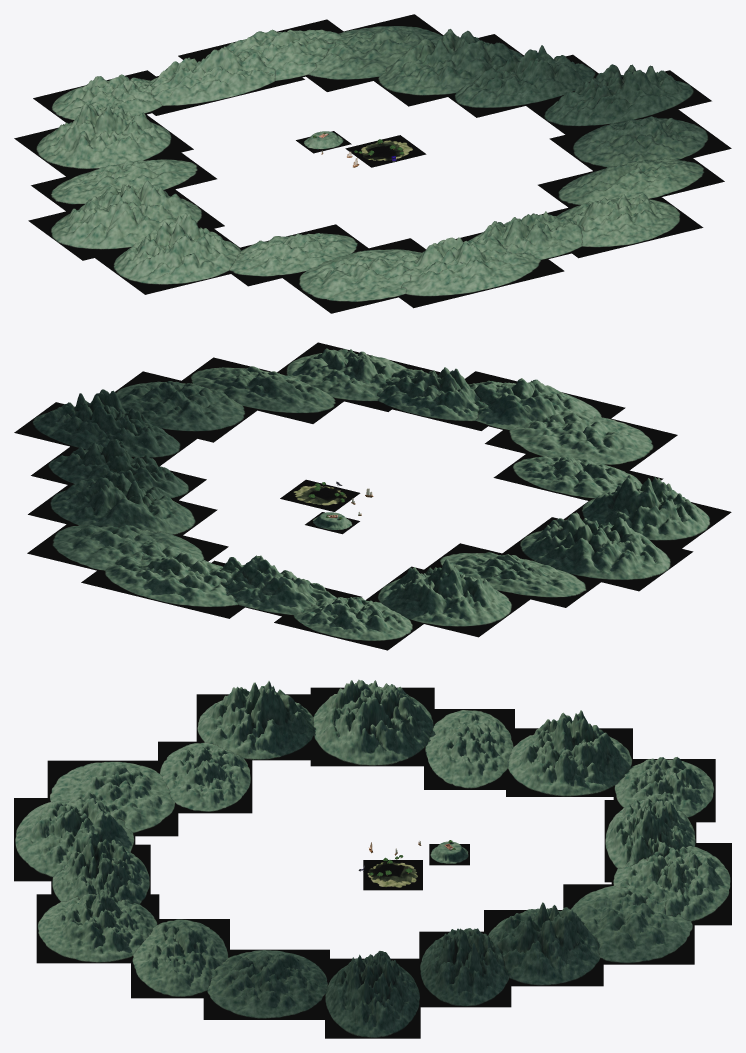
Rendered from environment-particles.glb.
The picture shows the model from 3 angles, top to bottom: view 1: azimuth 30°, elevation 25°; view 2: azimuth 150°, elevation 25°; view 3: azimuth 270°, elevation 25°; orthographic projection. The views are drawn at different scales.
Visible parts, largest first — view 1: Surrounding mountains, Temple shore, Far temple island; view 2: Surrounding mountains, Temple shore, Far temple island; view 3: Surrounding mountains, Temple shore, Far temple island.
Part boxes in pixels (bbox=[...]): Surrounding mountains: bbox=[14, 14, 731, 313]; Temple shore: bbox=[345, 135, 426, 167]; Far temple island: bbox=[296, 131, 351, 153]; Surrounding mountains: bbox=[14, 342, 731, 650]; Temple shore: bbox=[280, 479, 360, 511]; Far temple island: bbox=[305, 512, 359, 534]; Surrounding mountains: bbox=[14, 679, 731, 1038]; Temple shore: bbox=[363, 860, 422, 890]; Far temple island: bbox=[429, 841, 469, 865].
Size of the model in its own units: 529 by 33.19 by 458.
Materials: 21 (9 with a texture image).
